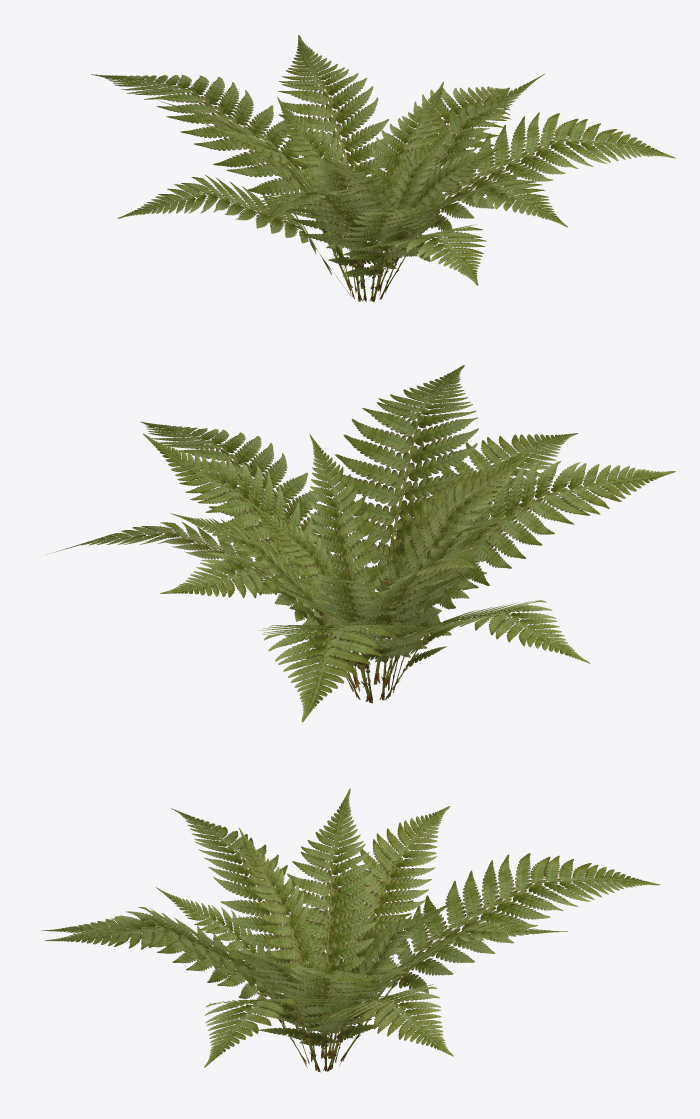
Rendered from fern_large_a_lod1.gltf.
The picture shows the model from 3 angles, top to bottom: view 1: azimuth 30°, elevation 25°; view 2: azimuth 150°, elevation 25°; view 3: azimuth 270°, elevation 25°; orthographic projection. The views are drawn at different scales.
Visible parts, largest first — view 1: fern_large_a_LOD1; view 2: fern_large_a_LOD1; view 3: fern_large_a_LOD1.
Part boxes in pixels (x1,y1,x2,y2): fern_large_a_LOD1: [91, 35, 675, 301]; fern_large_a_LOD1: [47, 365, 675, 722]; fern_large_a_LOD1: [41, 788, 660, 1072].
Size of the model in its own units: 2 by 0.782 by 2.23.
Materials: 1 (1 with a texture image).
